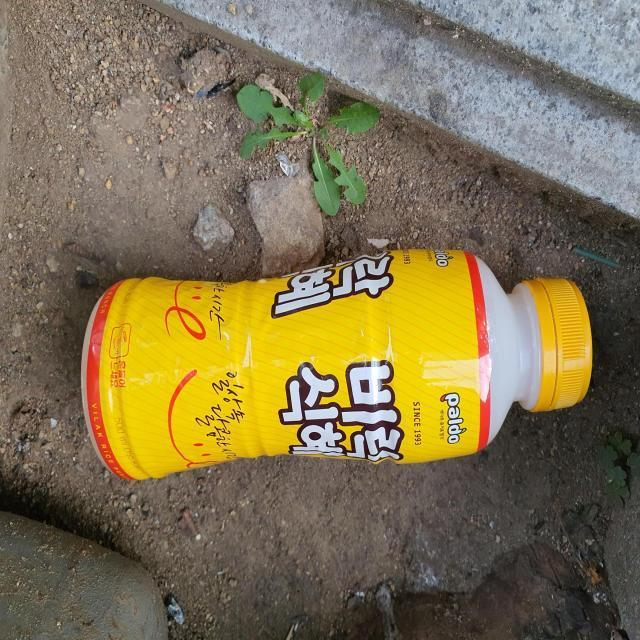plastic_bottle: (83, 251, 594, 482)
